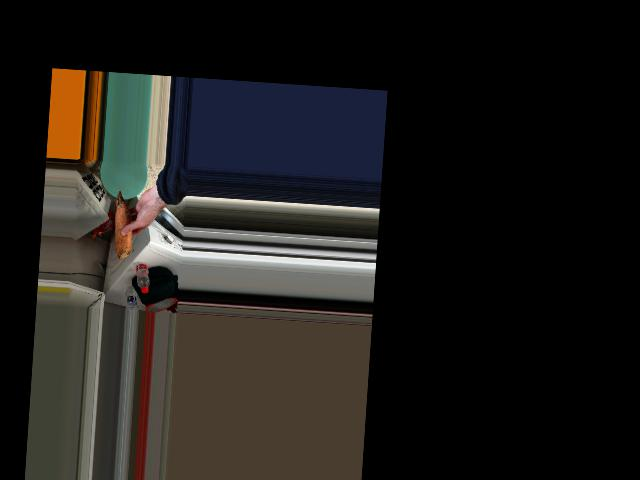sweet_potato: (107, 191, 139, 262)
